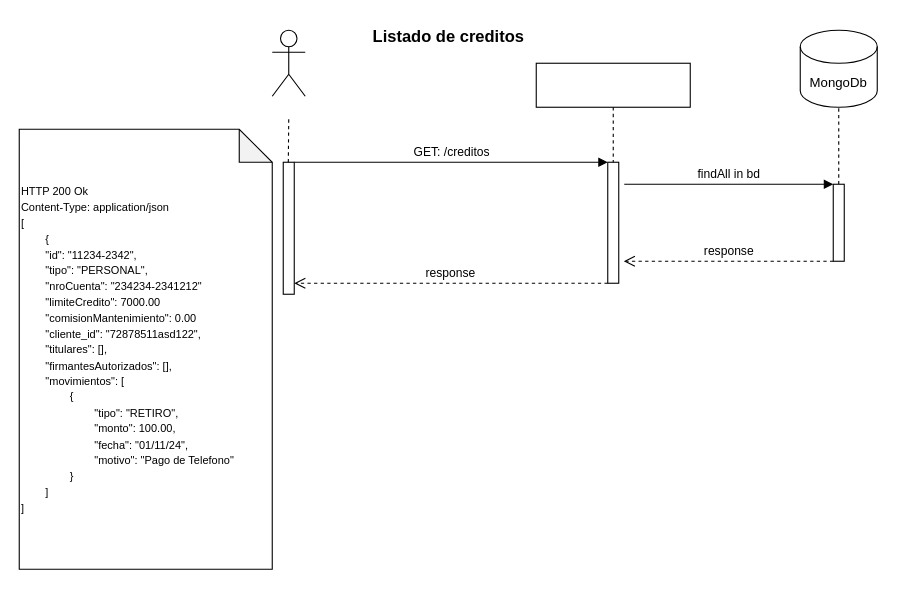
This 897x589 diagram has some shape labels left out. Each missing label, with the box of its shape:
Cliente: (271, 29, 305, 96)
ms-creditos: (535, 62, 690, 283)
